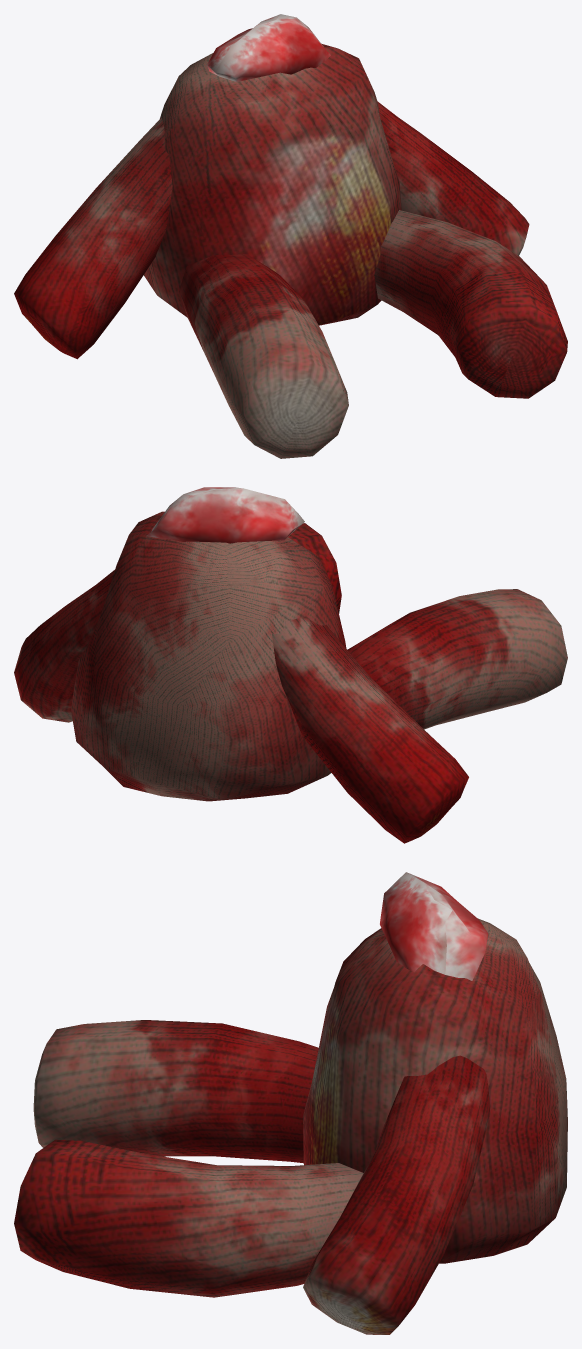
Rendered from TeddyBody.FBX.
The picture shows the model from 3 angles, top to bottom: view 1: azimuth 30°, elevation 25°; view 2: azimuth 150°, elevation 25°; view 3: azimuth 270°, elevation 25°; orthographic projection. The views are drawn at different scales.
Parts seen in each view (by area): view 1: default; view 2: default; view 3: default.
Boxes of the visible parts, box(x1,y1,x2,y2) form: default: box(14, 14, 567, 458); default: box(14, 487, 567, 843); default: box(14, 872, 567, 1334).
Size of the model in its own units: 24.86 by 15.08 by 22.13.
1 material, 1 textured.
